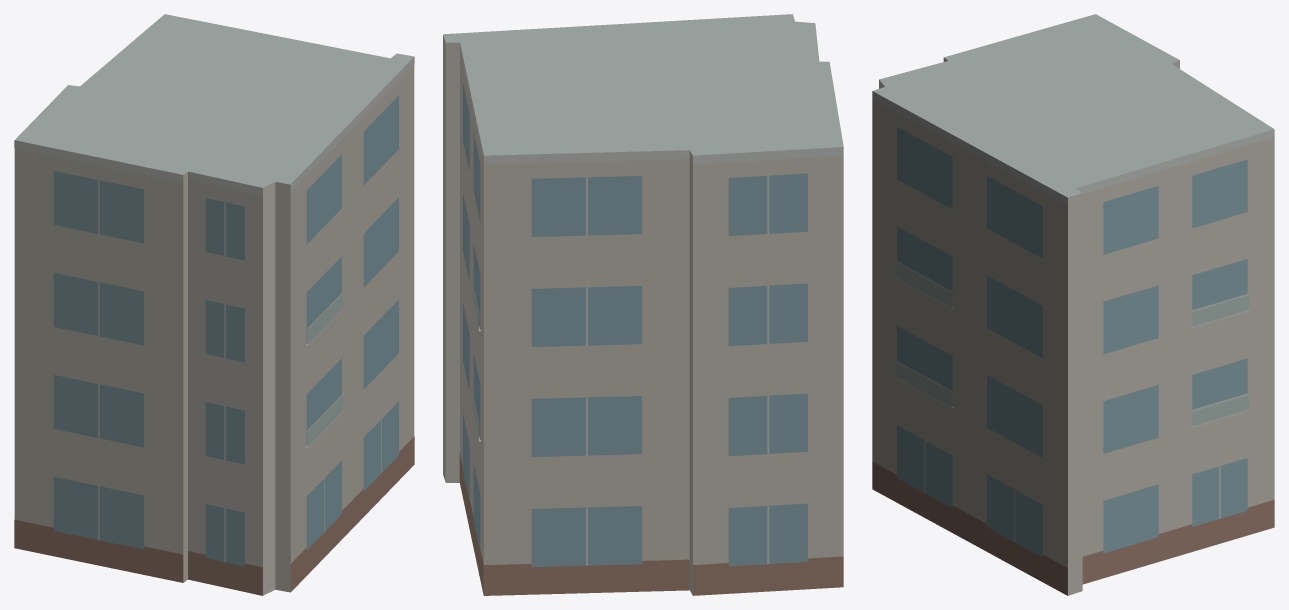
File: survey-upis-32491659.glb
The picture shows the model from 3 angles, left to right: view 1: azimuth 30°, elevation 25°; view 2: azimuth 150°, elevation 25°; view 3: azimuth 270°, elevation 25°; orthographic projection. The views are drawn at different scales.
Parts seen in each view (by area): view 1: survey-upis-32491659.tmp; view 2: survey-upis-32491659.tmp; view 3: survey-upis-32491659.tmp.
Part boxes in pixels (x1=…): survey-upis-32491659.tmp: x1=14, y1=14, x2=414, y2=595; survey-upis-32491659.tmp: x1=443, y1=14, x2=843, y2=595; survey-upis-32491659.tmp: x1=872, y1=14, x2=1274, y2=595.
Bounding box in the file's own units: 12.08 × 12.2 × 11.18.
